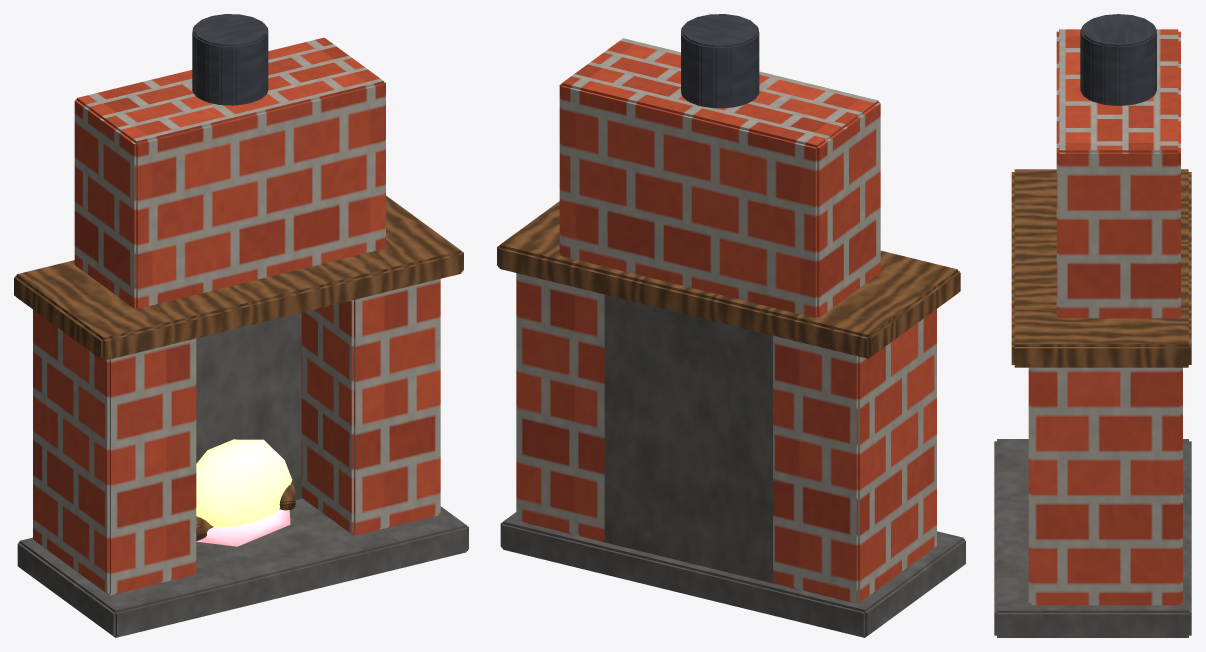
Rendered from furn_fireplace.glb.
3 renders of one model, left to right at view 1: azimuth 30°, elevation 25°; view 2: azimuth 150°, elevation 25°; view 3: azimuth 270°, elevation 25°, orthographic. The views are drawn at different scales.
Visible parts, largest first — view 1: furn_fireplace; view 2: furn_fireplace; view 3: furn_fireplace.
Part boxes in pixels (x1,y1,x2,y2): furn_fireplace: (14, 14, 468, 637); furn_fireplace: (497, 14, 965, 637); furn_fireplace: (994, 14, 1191, 637).
Bounding box in the file's own units: 1.96 × 2.69 × 0.92.
Materials: 6 (4 with a texture image).
